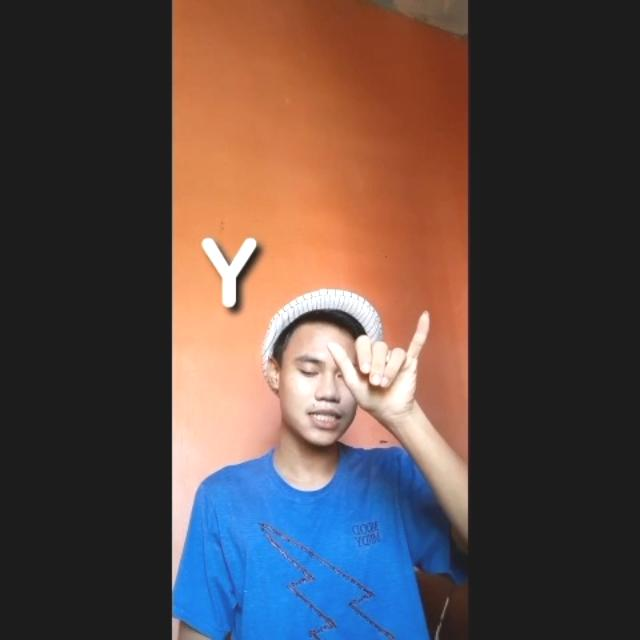Y: (327, 308, 445, 422)
